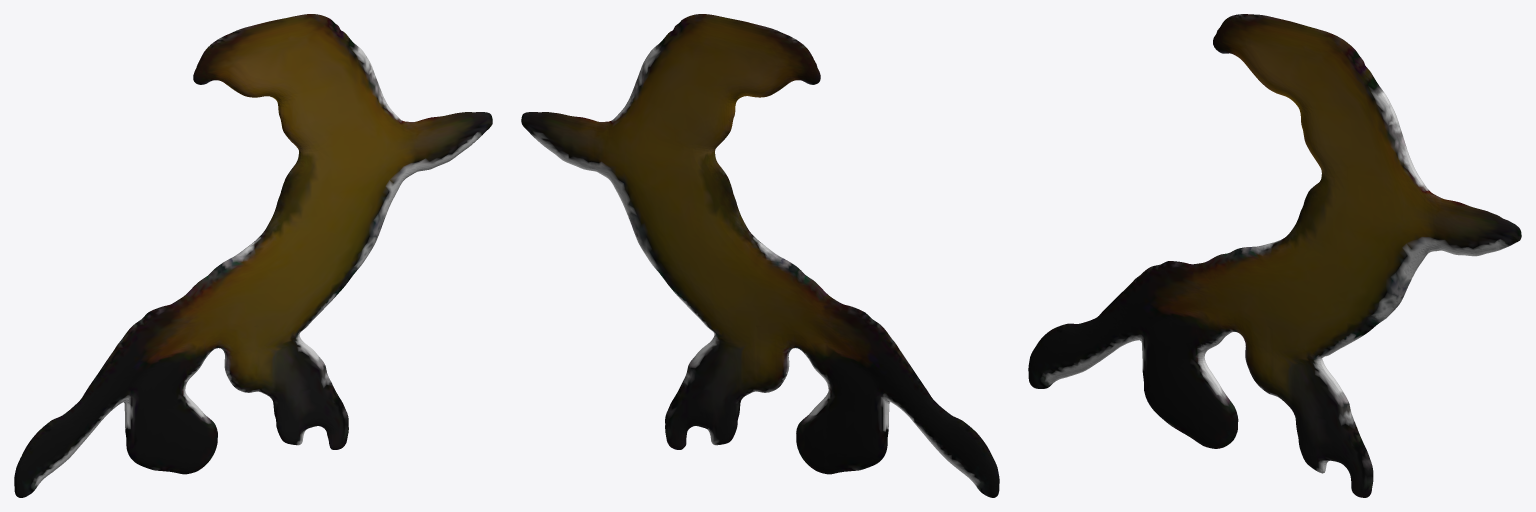
Rendered from blackroot.glb.
3 views of the same model, side by side, from view 1: azimuth 30°, elevation 25°; view 2: azimuth 150°, elevation 25°; view 3: azimuth 330°, elevation 25° (orthographic). The views are drawn at different scales.
Parts seen in each view (by area): view 1: geometry_0; view 2: geometry_0; view 3: geometry_0.
Boxes of the visible parts, x1=… form: geometry_0: x1=14, y1=14, x2=492, y2=497; geometry_0: x1=521, y1=14, x2=999, y2=497; geometry_0: x1=1028, y1=14, x2=1521, y2=497.
Bounding box in the file's own units: 0.632 × 0.5625 × 0.0239.
